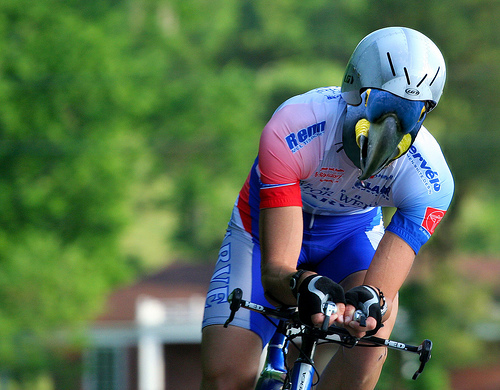helmet: (339, 14, 447, 119)
